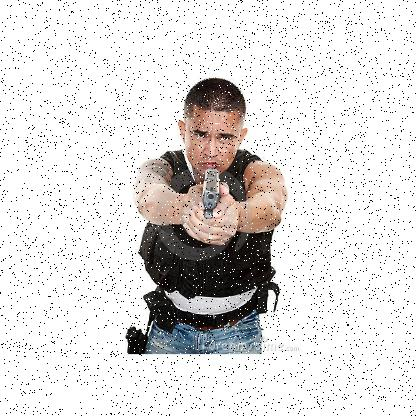gun: (196, 167, 222, 237)
